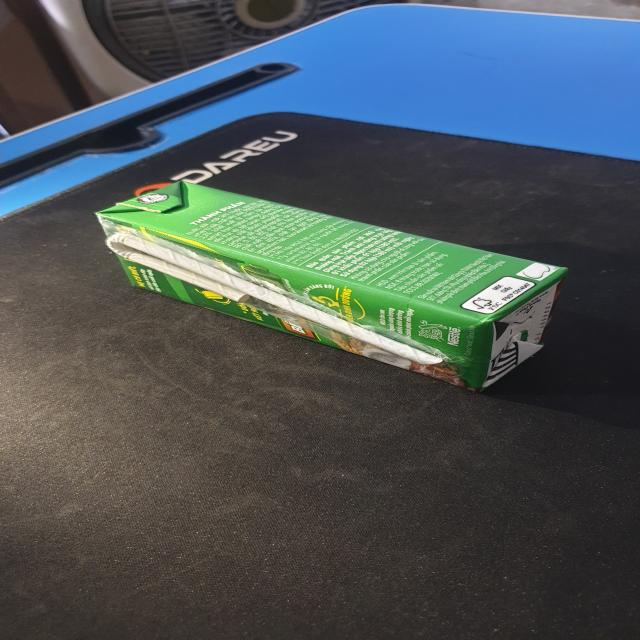Milo: (93, 179, 572, 397)
